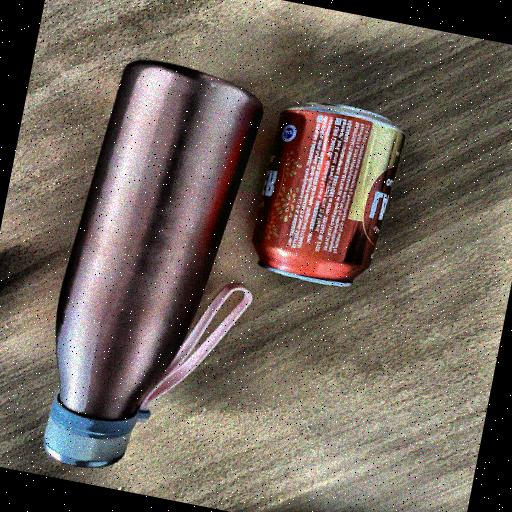coop_larger: (216, 76, 429, 313)
